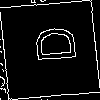D: (25, 24, 77, 65)
